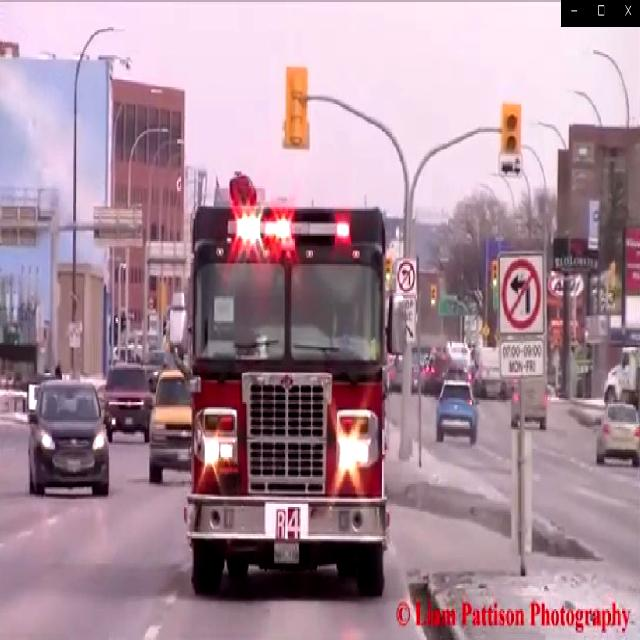emergency: (168, 186, 407, 602)
